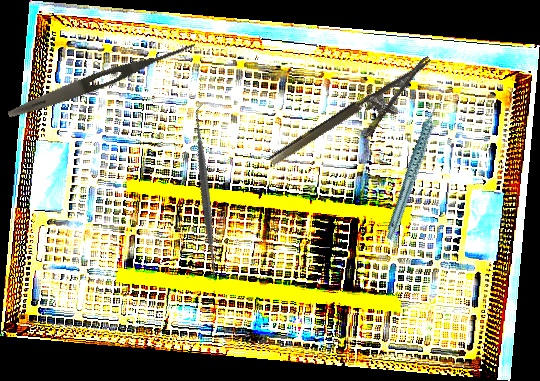Dressing Forceps: (5, 35, 198, 124)
Handpiece: (359, 99, 471, 241)
Needle Holder: (267, 55, 448, 188)
Spatula Surgical: (116, 103, 295, 281)
